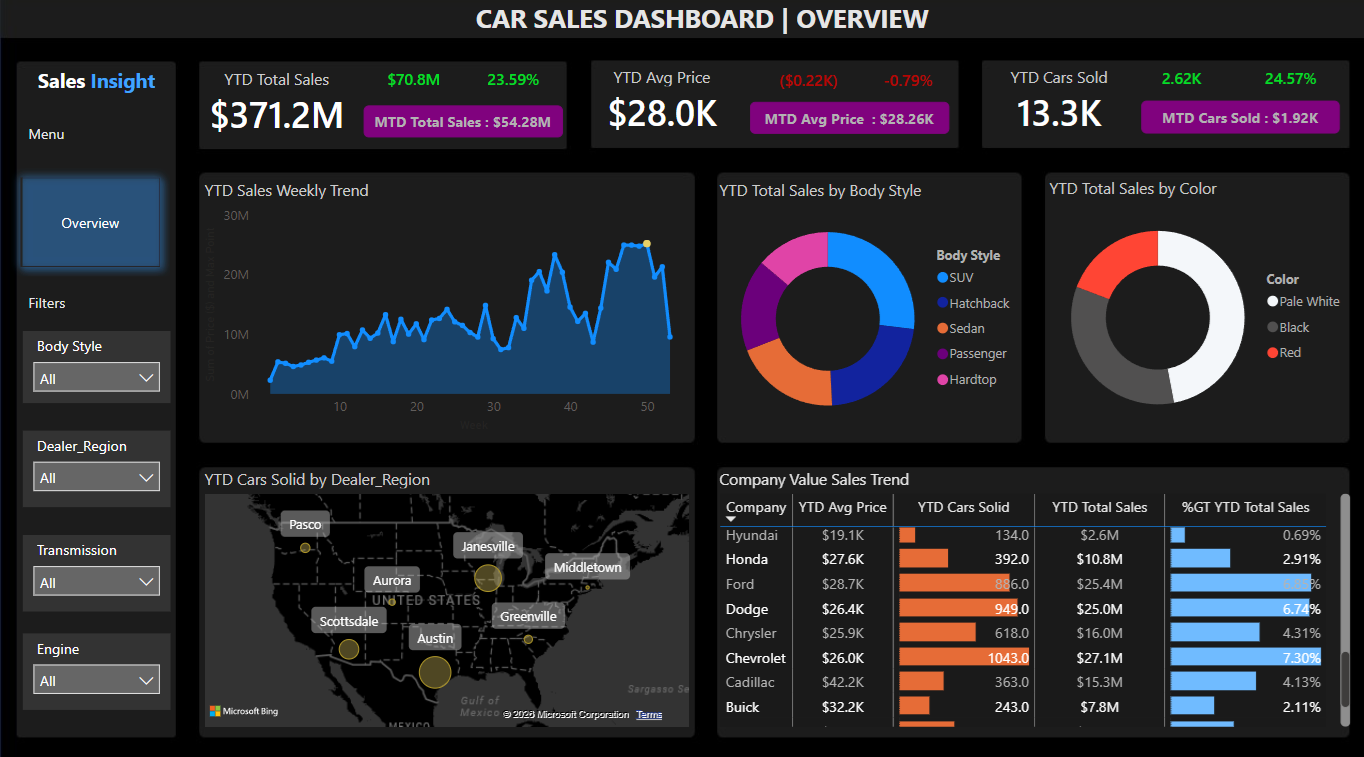

This screenshot's page, from the dashboard's own definition file:
{"tool":"powerbi","page":{"name":"Overview","canvas":[1280,720],"ordinal":0},"visuals":[{"type":"card","title":"YTD Total Sales","fields":{"Values":["car_data.YTD Total Sales"]},"box":[186.1,68,145,66.7],"z":0},{"type":"card","fields":{"Values":["car_data.Sales Difference"]},"box":[340.1,66.7,93.7,29.5],"z":1000},{"type":"card","fields":{"Values":["car_data.YoY Sales Growth"]},"box":[433.7,66.7,93.7,29.5],"z":2000},{"type":"card","fields":{"Values":["car_data.MTD KPI"]},"box":[340.5,103.4,186.5,30.3],"z":3000},{"type":"card","title":"YTD Avg Price","fields":{"Values":["car_data.YTD Avg Price"]},"box":[551.8,66.3,136,67.4],"z":4000},{"type":"card","fields":{"Values":["car_data.Avg Price Diff"]},"box":[710.2,66.3,93.3,30.3],"z":5000},{"type":"card","fields":{"Values":["car_data.YoY Avg Price Growth"]},"box":[803.5,66.3,93.3,30.3],"z":6000},{"type":"card","fields":{"Values":["car_data.MTD Avg Price KPI"]},"box":[702.4,100,186.5,30.3],"z":7000},{"type":"card","title":"YTD Cars Sold","fields":{"Values":["car_data.YTD Cars Solid"]},"box":[923.7,66.3,136,67.4],"z":8000},{"type":"card","fields":{"Values":["car_data.Cars Sold Diff"]},"box":[1059.7,65.2,93.3,30.3],"z":9000},{"type":"card","fields":{"Values":["car_data.YoY Car Solid Growth"]},"box":[1162,65.2,93.3,30.3],"z":10000},{"type":"card","fields":{"Values":["car_data.MTD Cars Sold KPI"]},"box":[1068.6,99.2,186,30.4],"z":11000},{"type":"areaChart","title":"YTD Sales Weekly Trend","fields":{"Category":["Calendar Table.Week"],"Y":["Sum(car_data.Price ($))","car_data.Max Point"]},"box":[186.5,172,463.1,242.1],"z":12000},{"type":"donutChart","fields":{"Category":["car_data.Body Style"],"Y":["car_data.YTD Total Sales"]},"box":[668.1,172,291.1,243.4],"z":13000},{"type":"donutChart","fields":{"Category":["car_data.Color"],"Y":["car_data.YTD Total Sales"]},"box":[977.7,170.7,291.1,243.4],"z":14000},{"type":"map","fields":{"Category":["car_data.Dealer_Region"],"Size":["car_data.YTD Cars Solid"]},"box":[186.5,443.2,463.1,247.4],"z":15000},{"type":"tableEx","title":"Company Value Sales Trend","fields":{"Values":["car_data.Company","car_data.YTD Avg Price","car_data.YTD Cars Solid","car_data.YTD Total Sales1","car_data.YTD Total Sales"]},"box":[668.6,442.7,600.6,247.7],"z":16000},{"type":"textbox","box":[425.9,0,463,48.3],"z":16001},{"type":"slicer","fields":{"Values":["car_data.Body Style"]},"box":[21.4,314.7,138.2,67.4],"z":16002},{"type":"slicer","fields":{"Values":["car_data.Dealer_Region"]},"box":[21.4,407.9,138.2,71.9],"z":16003},{"type":"slicer","fields":{"Values":["car_data.Transmission"]},"box":[21.4,505.7,138.2,71.9],"z":16004},{"type":"slicer","fields":{"Values":["car_data.Engine"]},"box":[21.4,597.8,138.2,71.9],"z":16005},{"type":"textbox","box":[21.4,274.2,95.5,37.1],"z":16006},{"type":"textbox","box":[15.7,61.8,149.5,34.8],"z":16007},{"type":"textbox","box":[21.4,115.7,95.5,37.1],"z":16008},{"type":"pageNavigator","box":[10.1,161.8,149.5,102.3],"z":16009}]}

Visuals, with their boxes in screenshot pixels (x1, y1, x2, y2), scaled from the page's 1280x720 canvas onto the 1364x757 screenshot:
"YTD Total Sales" card: bbox=(198, 71, 353, 142)
card - car_data.Sales Difference: bbox=(362, 70, 462, 101)
card - car_data.YoY Sales Growth: bbox=(462, 70, 562, 101)
card - car_data.MTD KPI: bbox=(363, 109, 562, 141)
"YTD Avg Price" card: bbox=(588, 70, 733, 141)
card - car_data.Avg Price Diff: bbox=(757, 70, 856, 102)
card - car_data.YoY Avg Price Growth: bbox=(856, 70, 956, 102)
card - car_data.MTD Avg Price KPI: bbox=(748, 105, 947, 137)
"YTD Cars Sold" card: bbox=(984, 70, 1129, 141)
card - car_data.Cars Sold Diff: bbox=(1129, 69, 1229, 100)
card - car_data.YoY Car Solid Growth: bbox=(1238, 69, 1338, 100)
card - car_data.MTD Cars Sold KPI: bbox=(1139, 104, 1337, 136)
"YTD Sales Weekly Trend" areaChart: bbox=(199, 181, 692, 435)
donutChart - car_data.Body Style x car_data.YTD Total Sales: bbox=(712, 181, 1022, 437)
donutChart - car_data.Color x car_data.YTD Total Sales: bbox=(1042, 179, 1352, 435)
map - car_data.Dealer_Region x car_data.YTD Cars Solid: bbox=(199, 466, 692, 726)
"Company Value Sales Trend" tableEx: bbox=(712, 465, 1352, 726)
textbox: bbox=(454, 0, 947, 51)
slicer - car_data.Body Style: bbox=(23, 331, 170, 402)
slicer - car_data.Dealer_Region: bbox=(23, 429, 170, 504)
slicer - car_data.Transmission: bbox=(23, 532, 170, 607)
slicer - car_data.Engine: bbox=(23, 629, 170, 704)
textbox: bbox=(23, 288, 125, 327)
textbox: bbox=(17, 65, 176, 102)
textbox: bbox=(23, 122, 125, 161)
pageNavigator: bbox=(11, 170, 170, 278)
